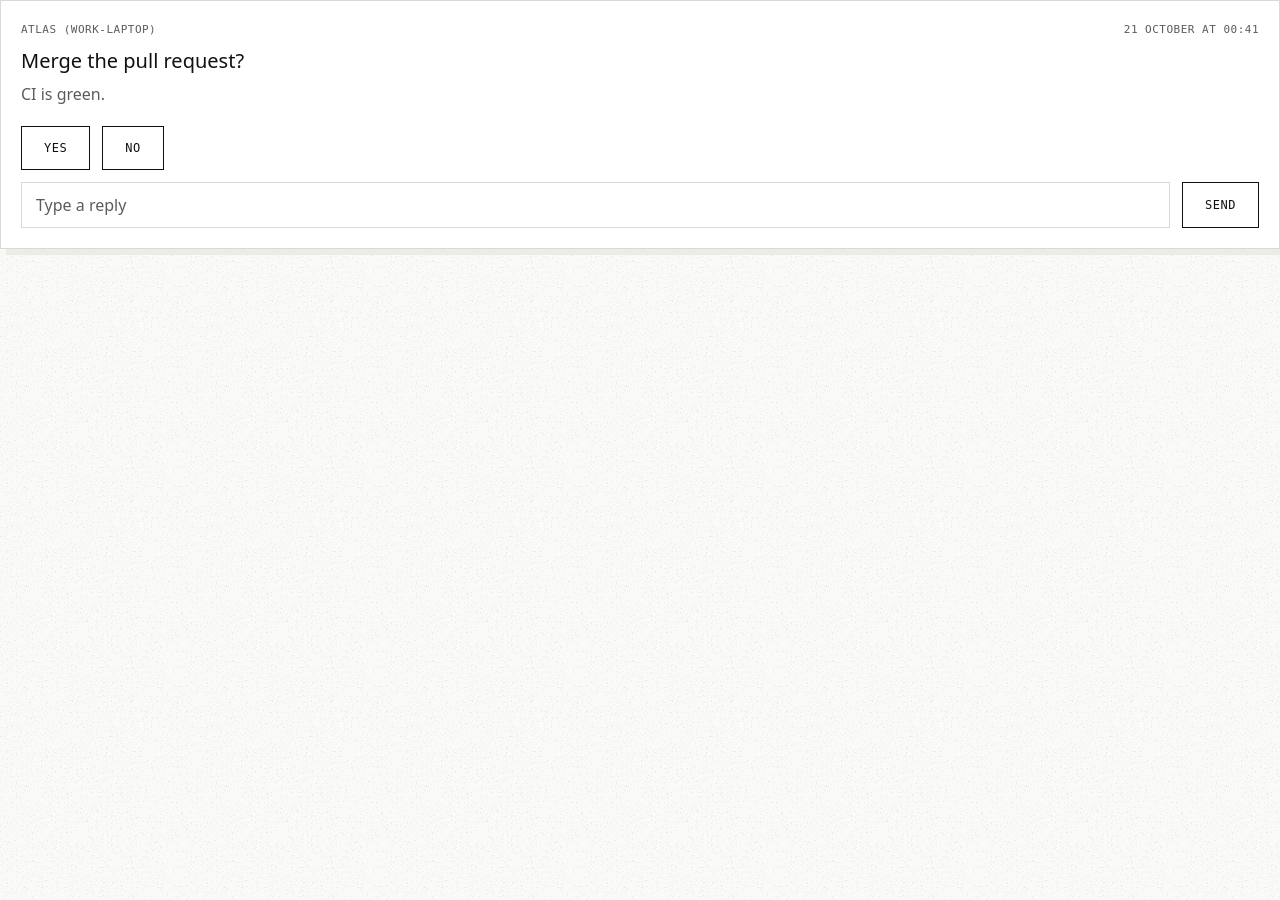
Test case: says why an answer failed, and stays
The width and height of the screenshot is (1280, 900).
Click the button "Yes" at x=56, y=148, box [21, 126, 90, 170]
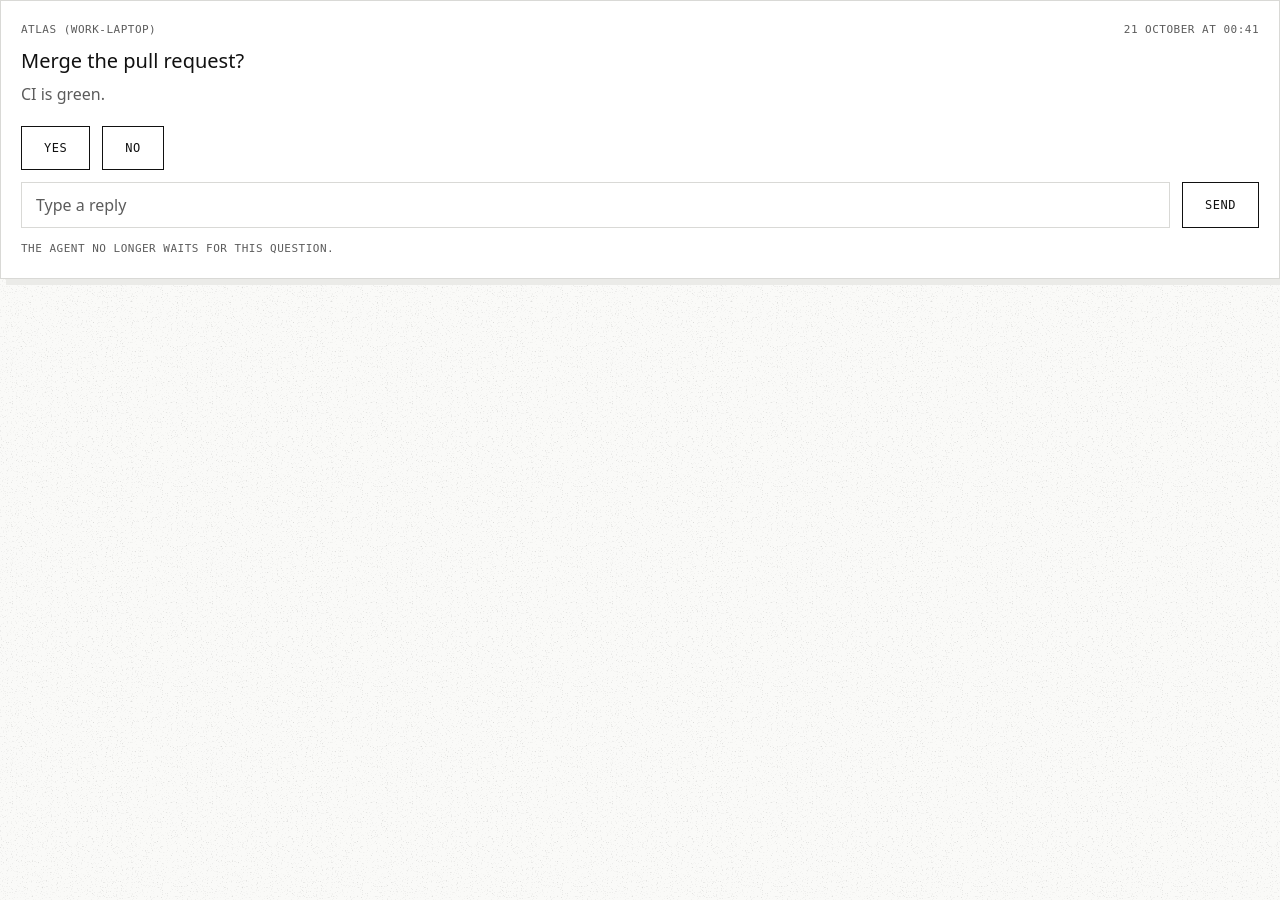
Expected: the text "The agent no longer waits for this question." is shown, [21, 242, 334, 255]
